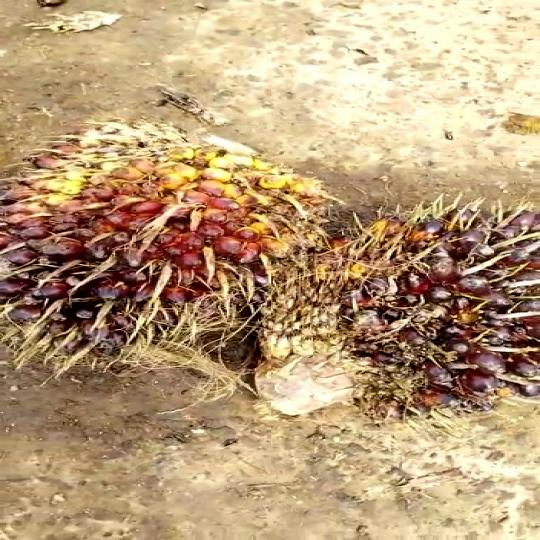kurang masak: (1, 107, 324, 383), (244, 185, 540, 444)
